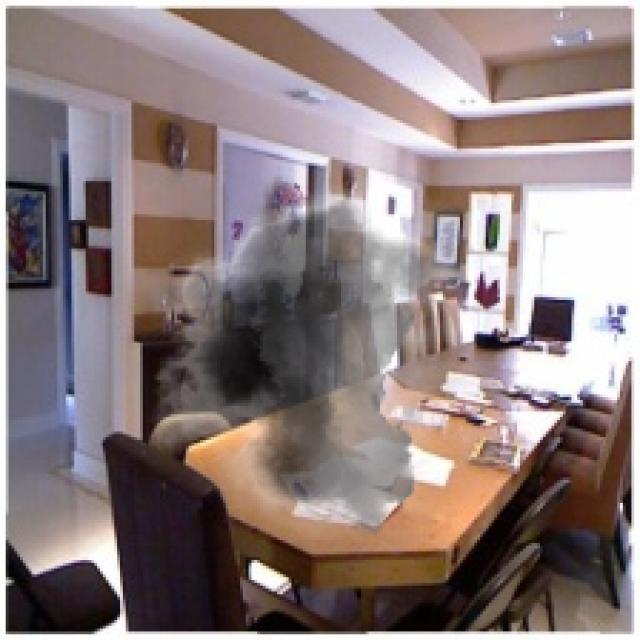smoke: (134, 166, 517, 540)
